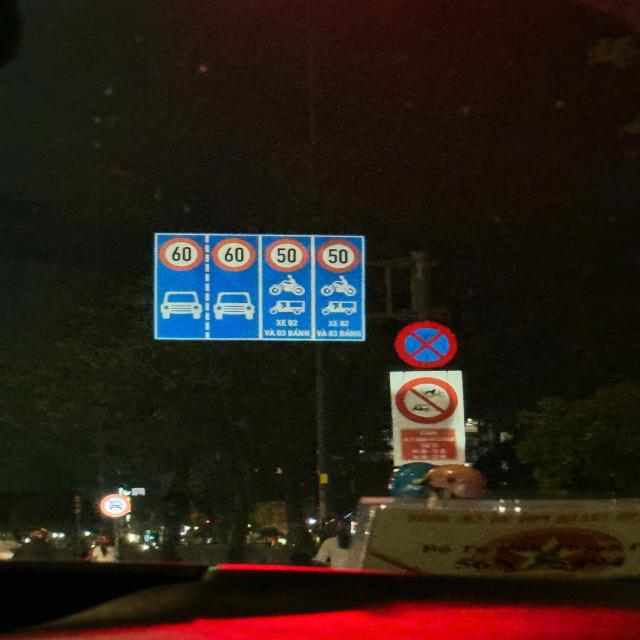Bien bao cam dung xe va do xe: (392, 318, 463, 370)
Bien bao toc do toi da cho phep: (261, 232, 312, 273), (208, 235, 260, 273), (156, 233, 204, 274), (316, 235, 364, 274)
